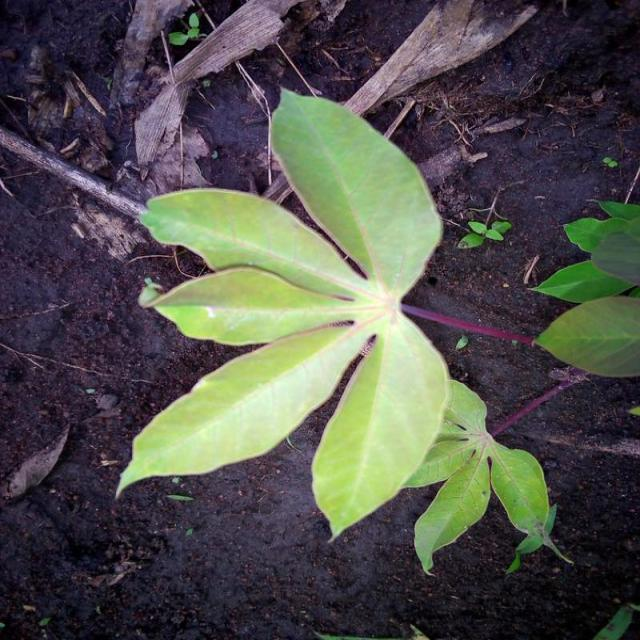cassava leaf: (114, 83, 570, 574), (268, 84, 443, 300)
